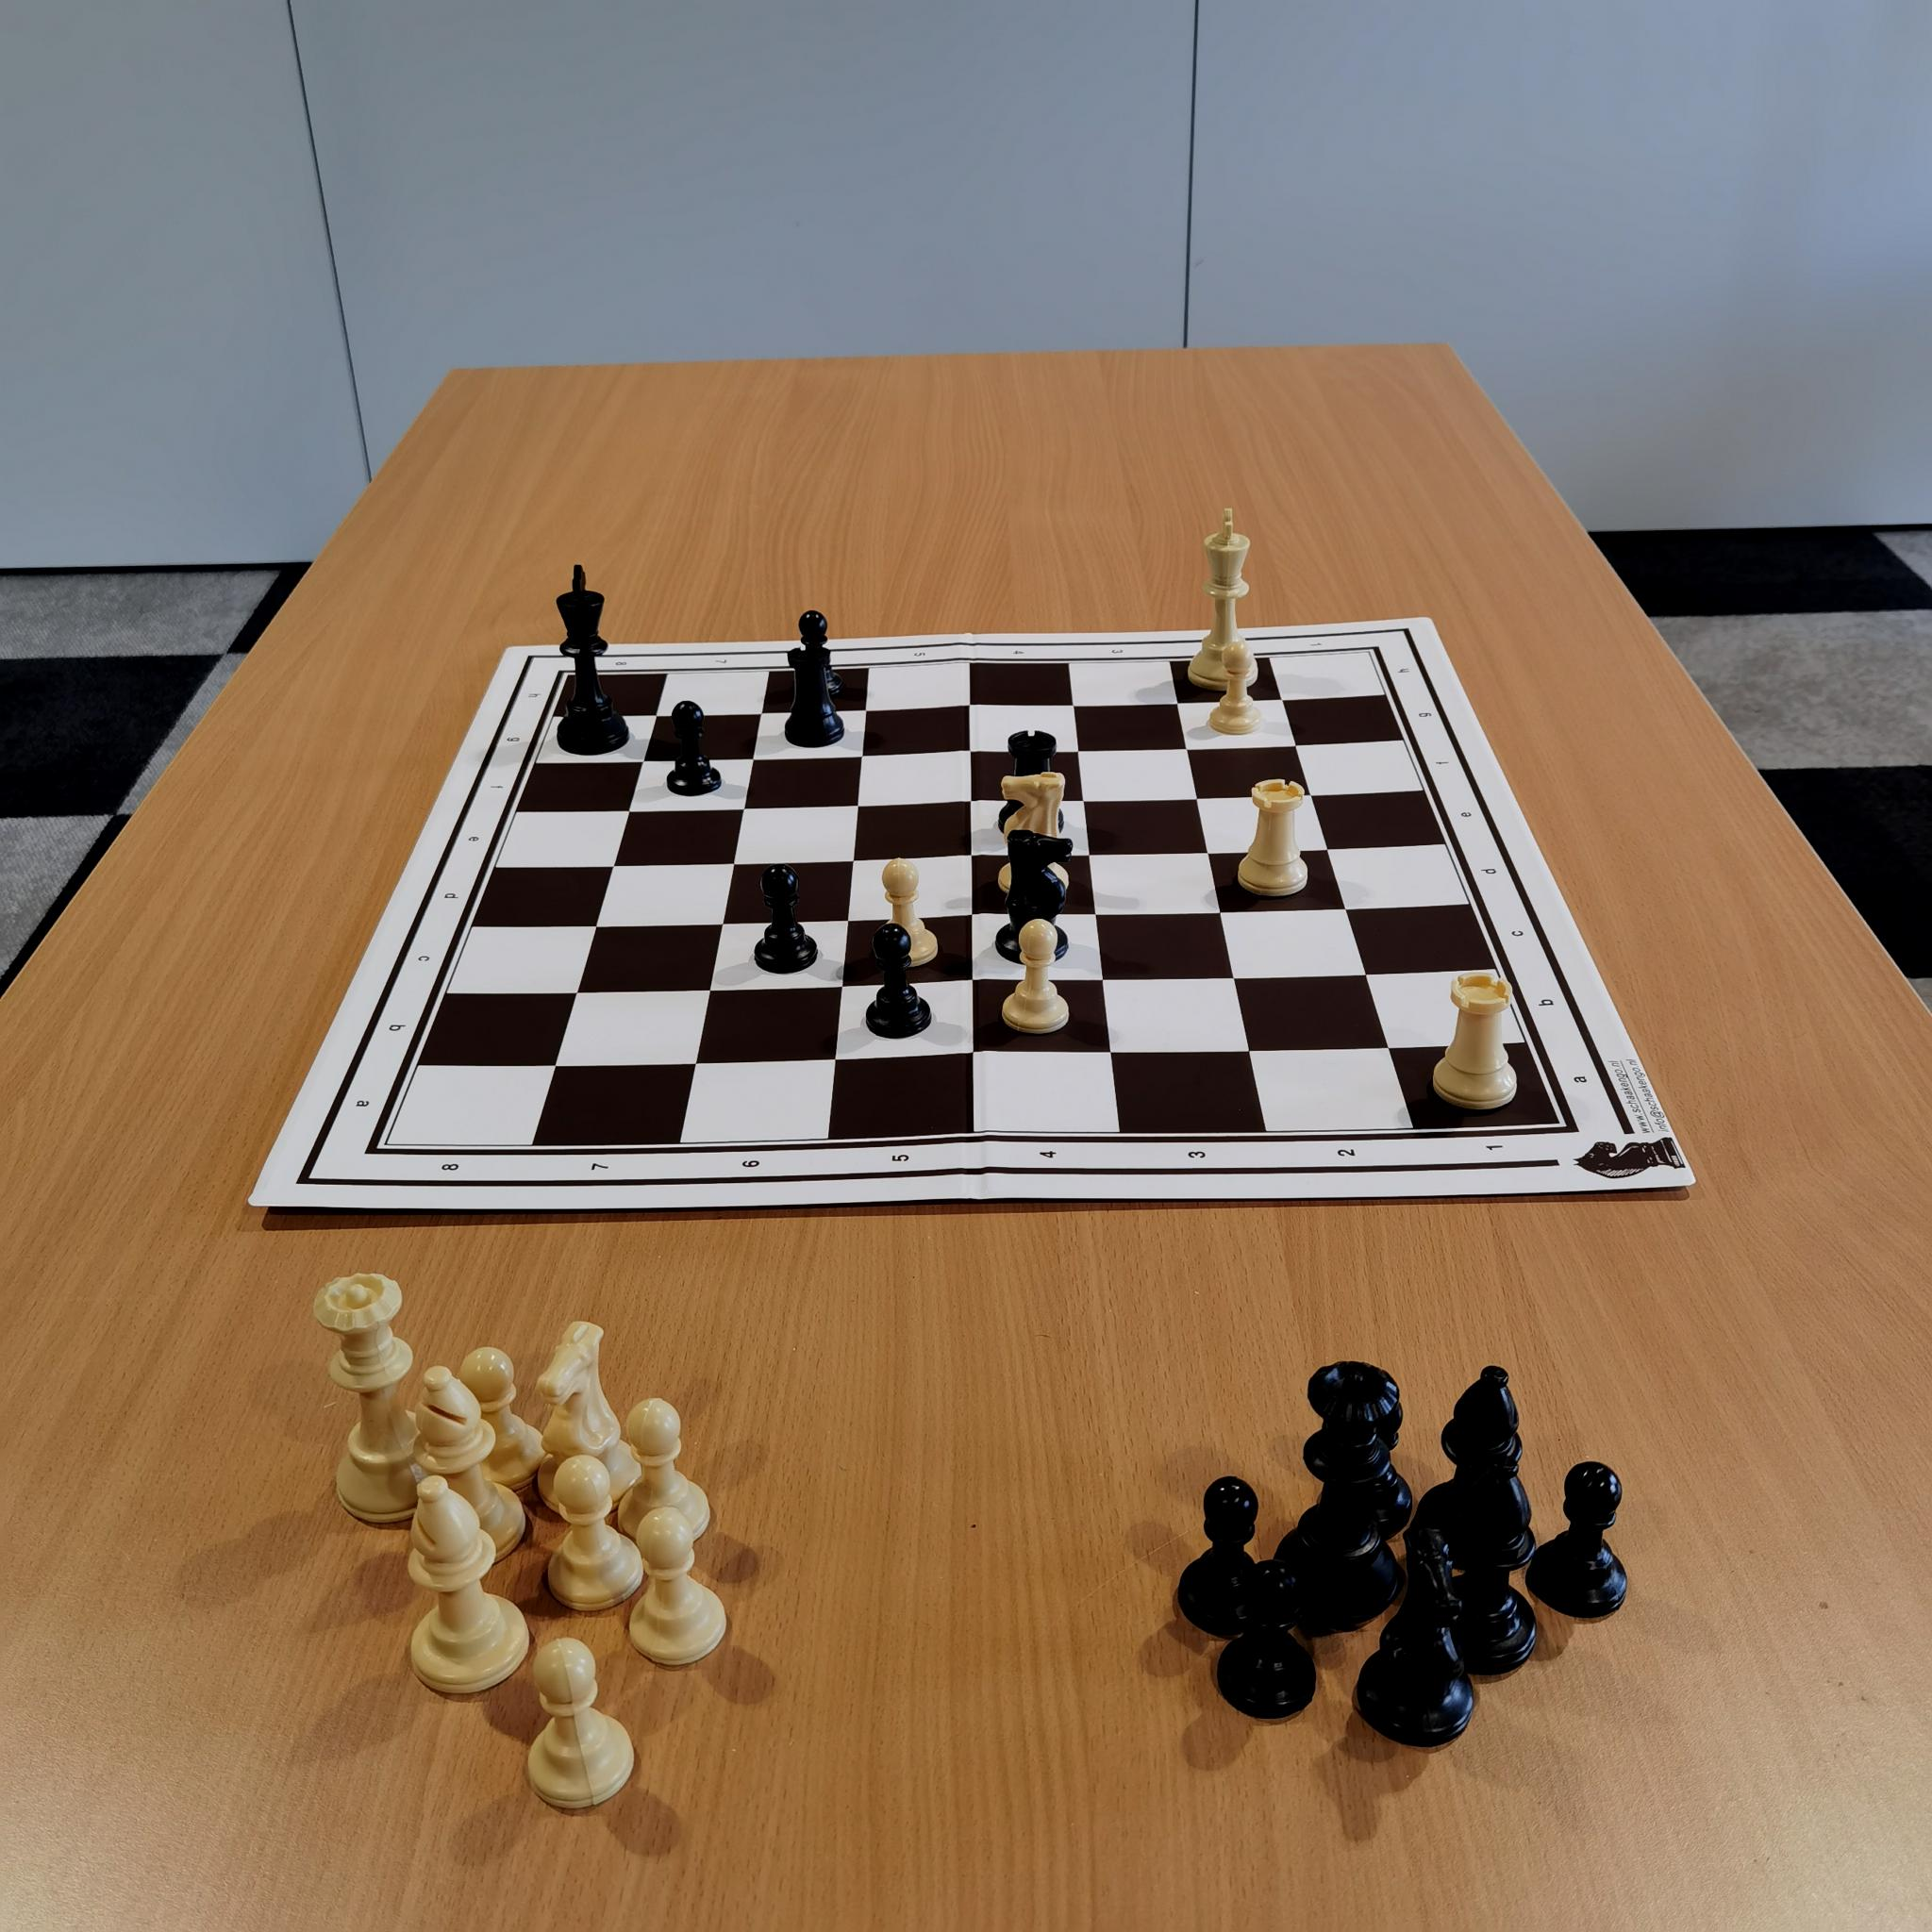corners: (353, 1134, 396, 1174), (1549, 1108, 1587, 1146), (555, 660, 585, 692), (1360, 639, 1393, 666)
eight: (429, 1142, 474, 1189), (606, 648, 641, 676)
one: (1479, 1131, 1516, 1162), (1304, 633, 1328, 651)
